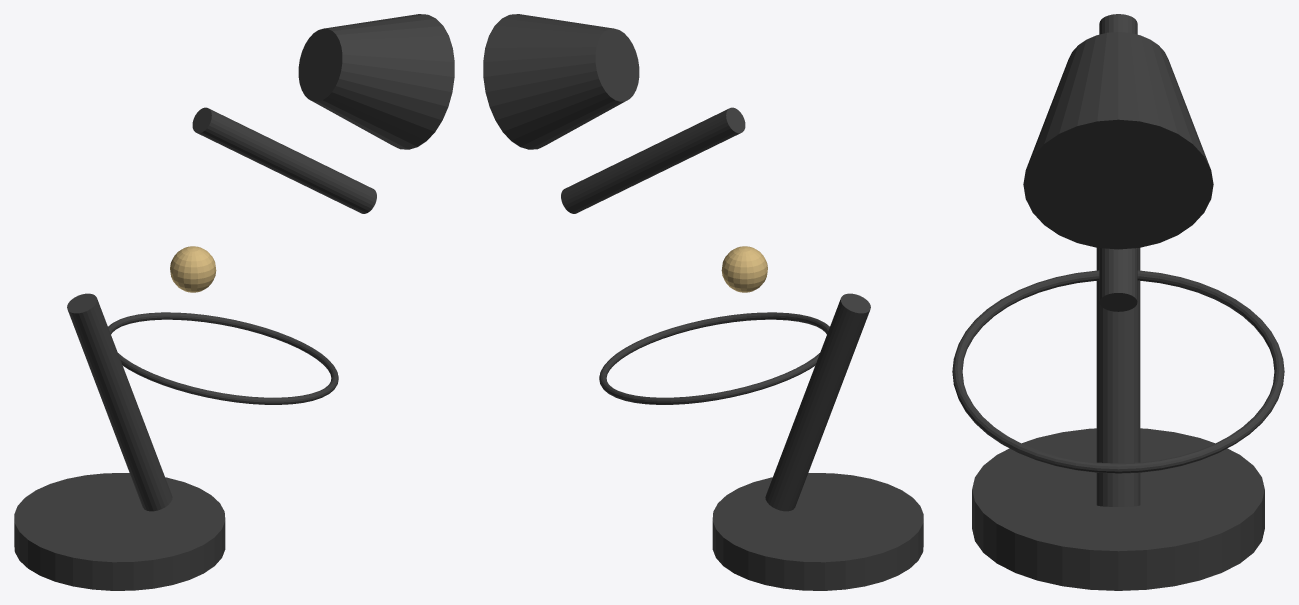
Rendered from p2s_desk_lamp_glow.glb.
3 renders of one model, left to right at view 1: azimuth 30°, elevation 25°; view 2: azimuth 150°, elevation 25°; view 3: azimuth 270°, elevation 25°, orthographic. The views are drawn at different scales.
Visible parts, largest first — view 1: LampBase, LampHead, StemLower, StemUpper, Cable, Joint; view 2: LampBase, LampHead, StemLower, StemUpper, Cable, Joint; view 3: LampBase, LampHead, StemLower, Cable, StemUpper.
Part boxes in pixels (x1,y1,x2,y2): LampBase: [14, 473, 225, 590]; LampHead: [298, 14, 454, 149]; StemLower: [67, 293, 172, 511]; StemUpper: [192, 107, 376, 213]; Cable: [108, 312, 338, 404]; Joint: [170, 246, 216, 292]; LampBase: [712, 473, 923, 590]; LampHead: [483, 14, 639, 149]; StemLower: [765, 293, 870, 511]; StemUpper: [561, 107, 745, 213]; Cable: [599, 312, 829, 404]; Joint: [721, 246, 767, 292]; LampBase: [972, 428, 1264, 590]; LampHead: [1023, 32, 1213, 249]; StemLower: [1096, 248, 1140, 506]; Cable: [952, 270, 1284, 473]; StemUpper: [1099, 14, 1137, 311].
Size of the model in its own units: 0.4453 by 0.4831 by 0.227.
